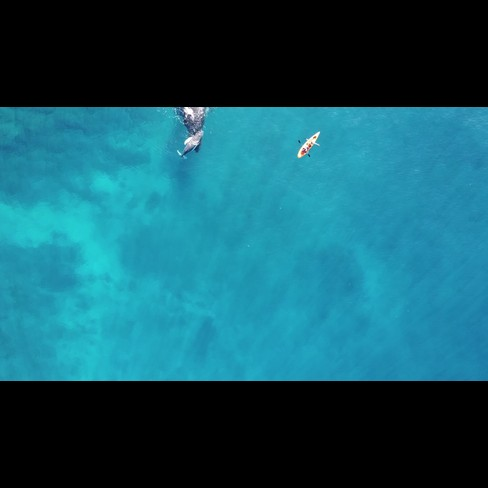hump: (171, 109, 214, 163)
